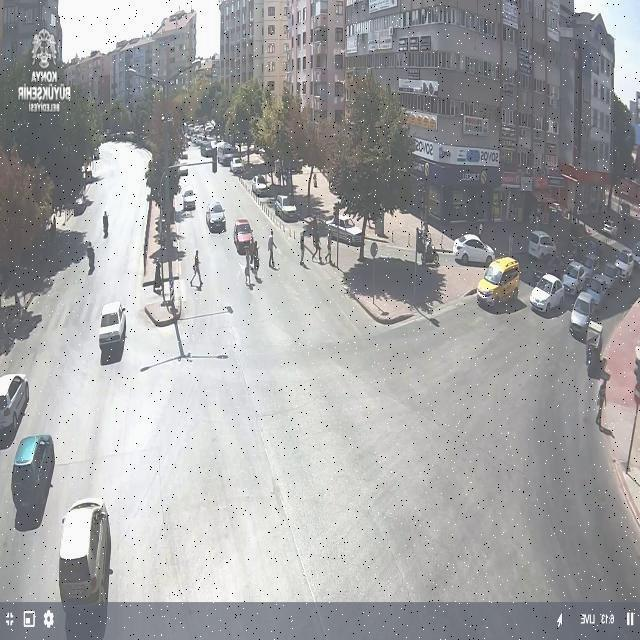Car: (58, 495, 115, 611), (7, 432, 57, 520), (0, 372, 30, 432), (96, 300, 130, 348), (452, 234, 496, 268), (529, 275, 566, 314), (569, 290, 599, 335), (325, 215, 367, 246), (525, 229, 563, 259), (582, 274, 610, 308), (593, 260, 624, 290), (232, 217, 256, 255), (562, 260, 587, 294), (612, 249, 635, 284), (205, 201, 227, 235), (273, 195, 299, 223), (578, 252, 603, 280), (600, 217, 620, 238), (250, 175, 268, 198), (181, 189, 197, 212), (230, 157, 244, 175)
Cycle: (584, 319, 605, 376), (420, 249, 440, 264)
Van: (477, 256, 522, 314), (217, 142, 237, 168)
